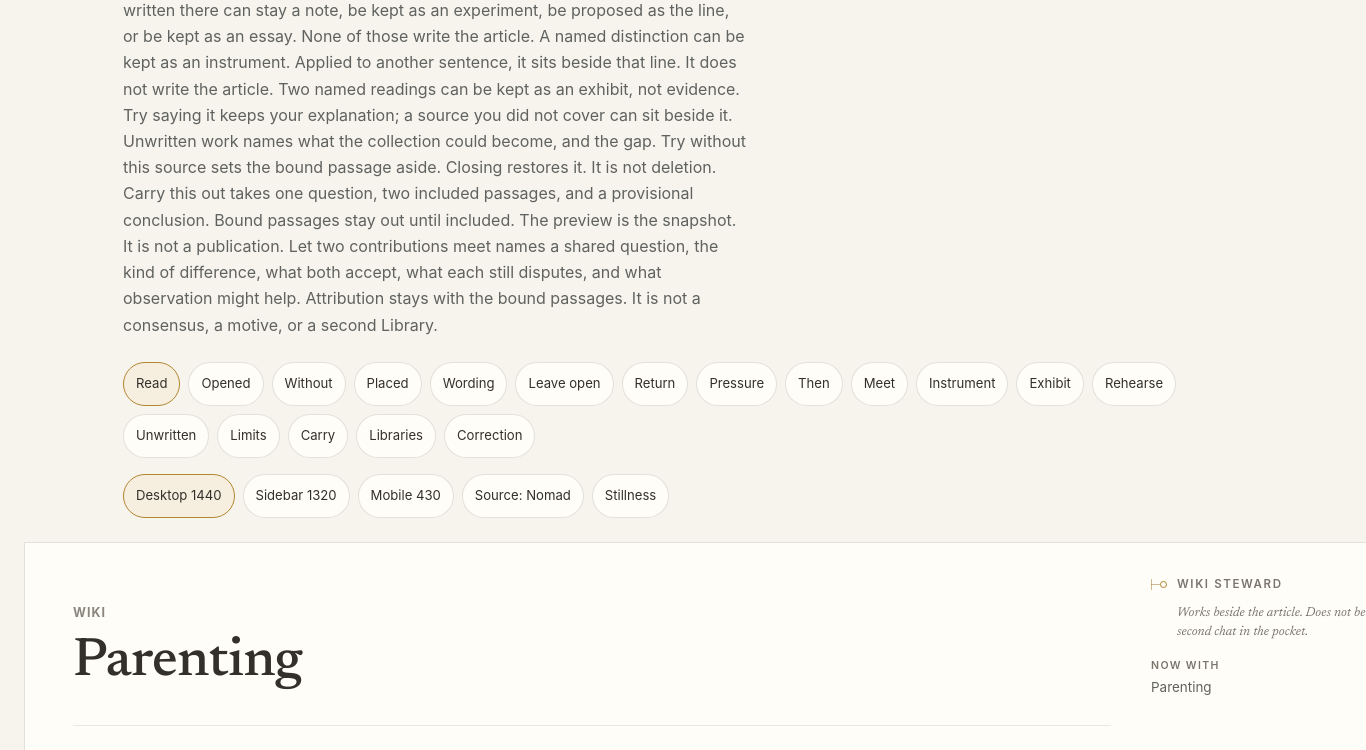
Scenario: OpenSentenceStoryboard › names a premise beside Compute without inventing a chain or leaving the pocket
The image size is (1366, 750).
(page scrolled)
Click the button "Pressure": (737,384) [696, 362, 777, 406]
(page scrolled)
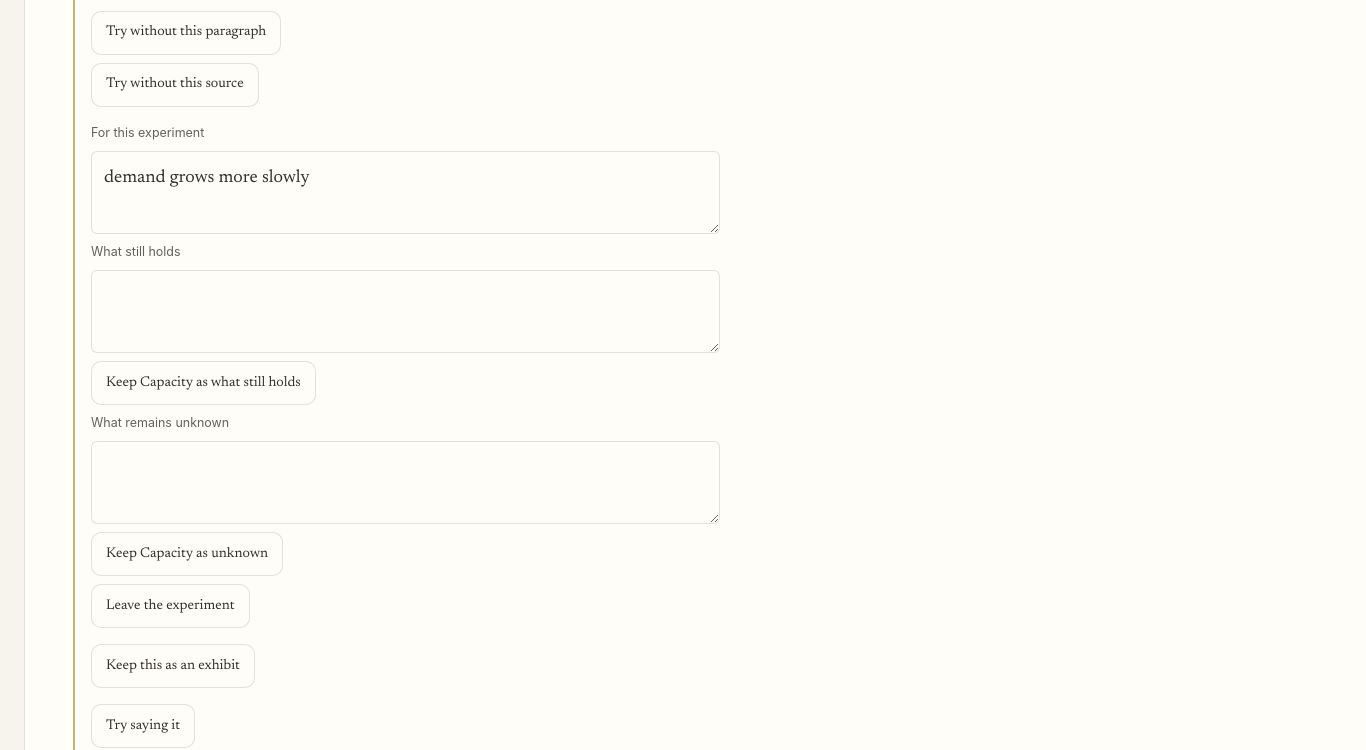
Check: the text box showing "demand grows more slowly" is shown, box [91, 151, 720, 234]
Click the button "Keep Capacity as what still holds": (203,383) [91, 361, 316, 405]
(page scrolled)
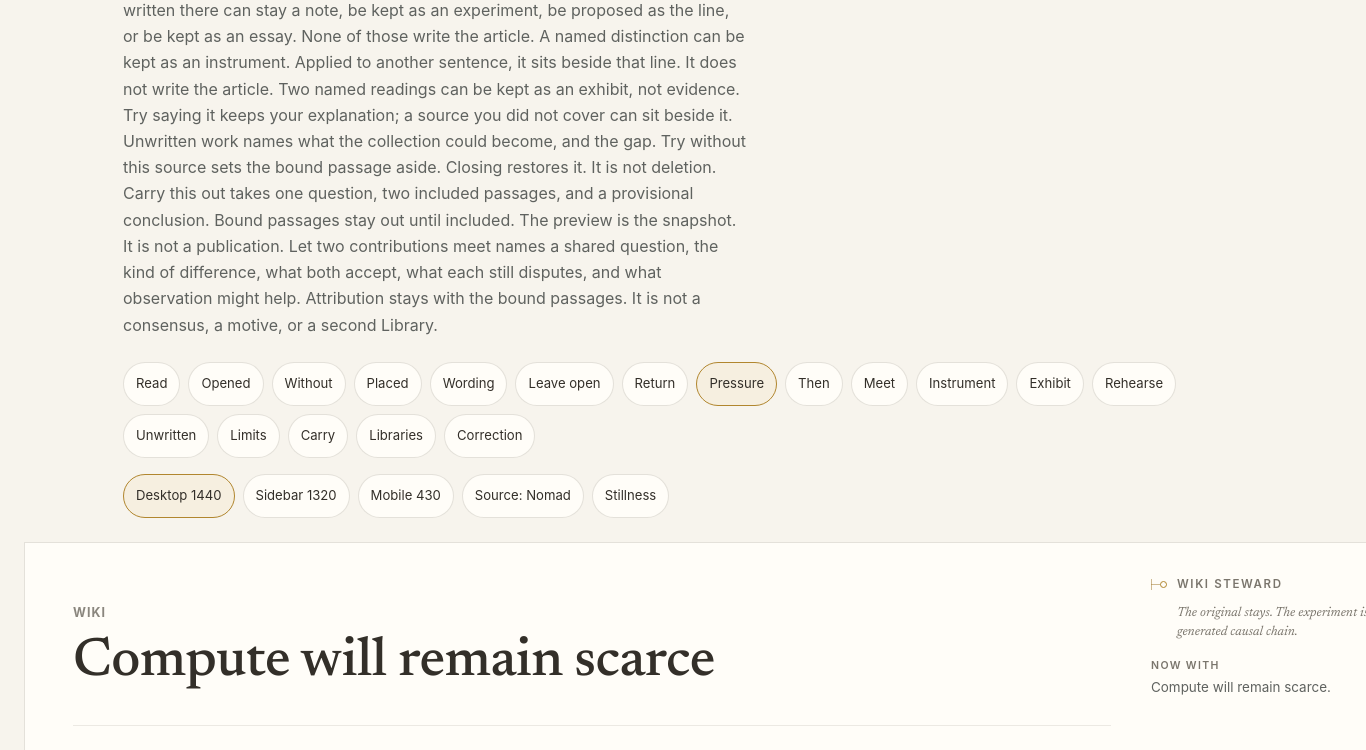
Check: the button "Keep Capacity as unknown" is gone
Click the button "Read": (152,384) [123, 362, 180, 406]
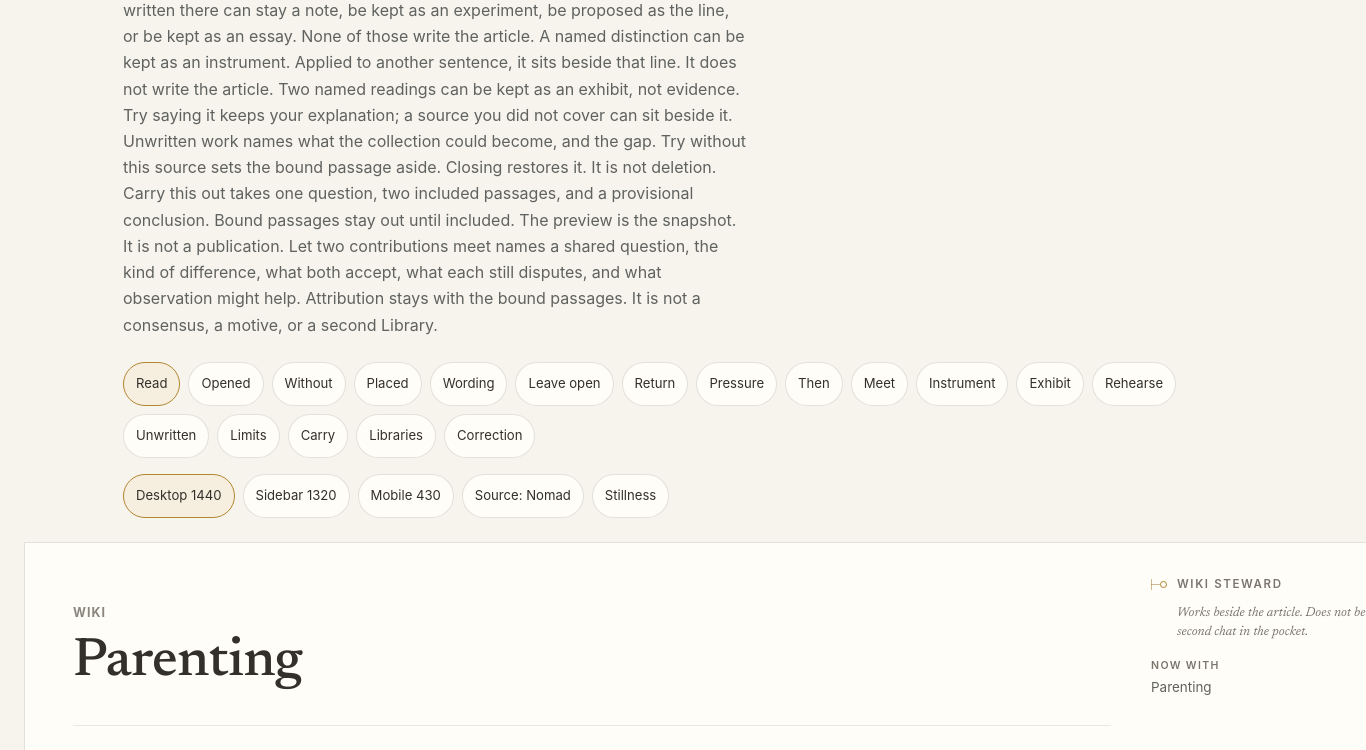
Check: the field showing "demand grows more slowly" is not shown
Check: the heading "Parenting" is shown, box [73, 635, 302, 689]
